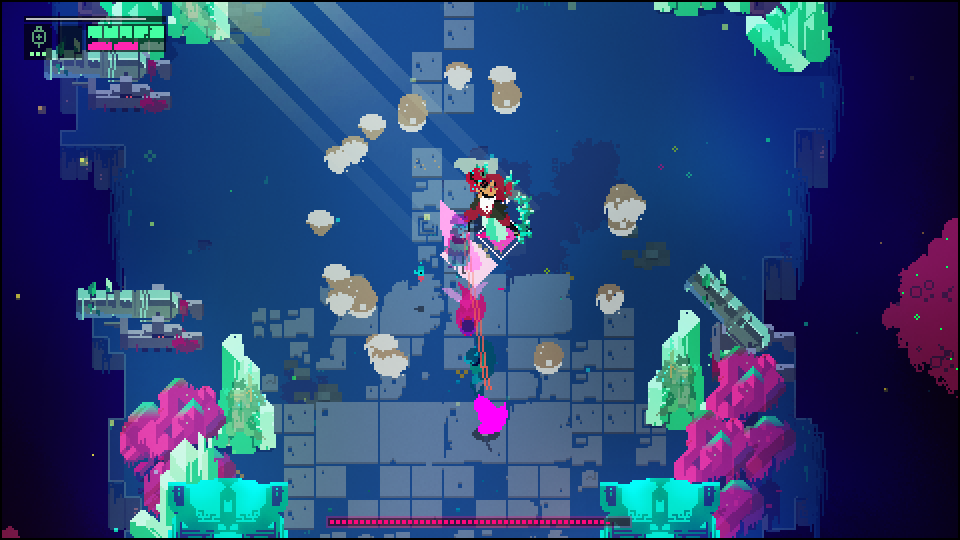hanged_man: (445, 151, 533, 246)
player: (471, 393, 513, 442)
